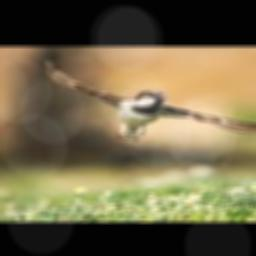Sparrow: (43, 60, 256, 140)
